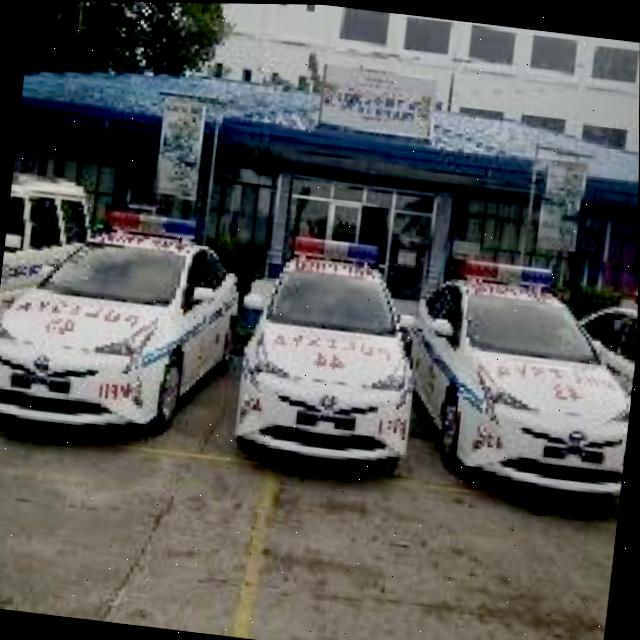emergency: (0, 190, 251, 446), (391, 259, 639, 502), (226, 244, 431, 473)
